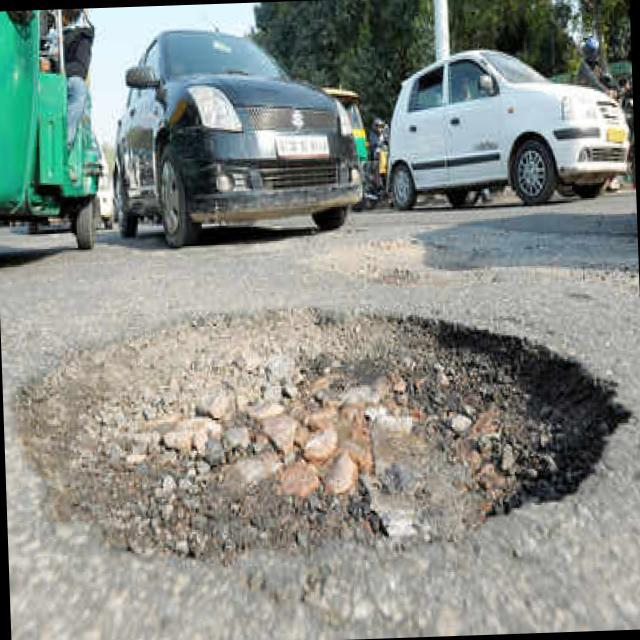Pothole: (23, 297, 635, 607)
